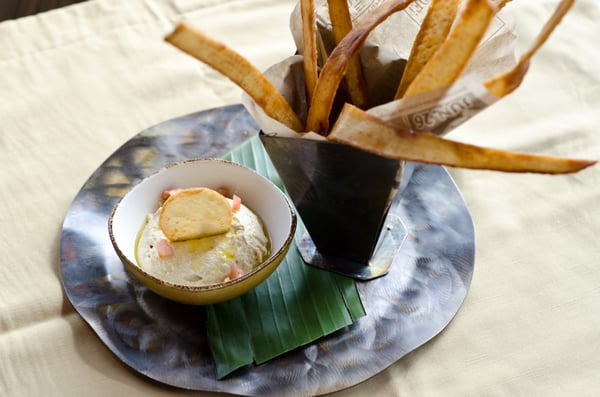sushi: (108, 158, 296, 306)
